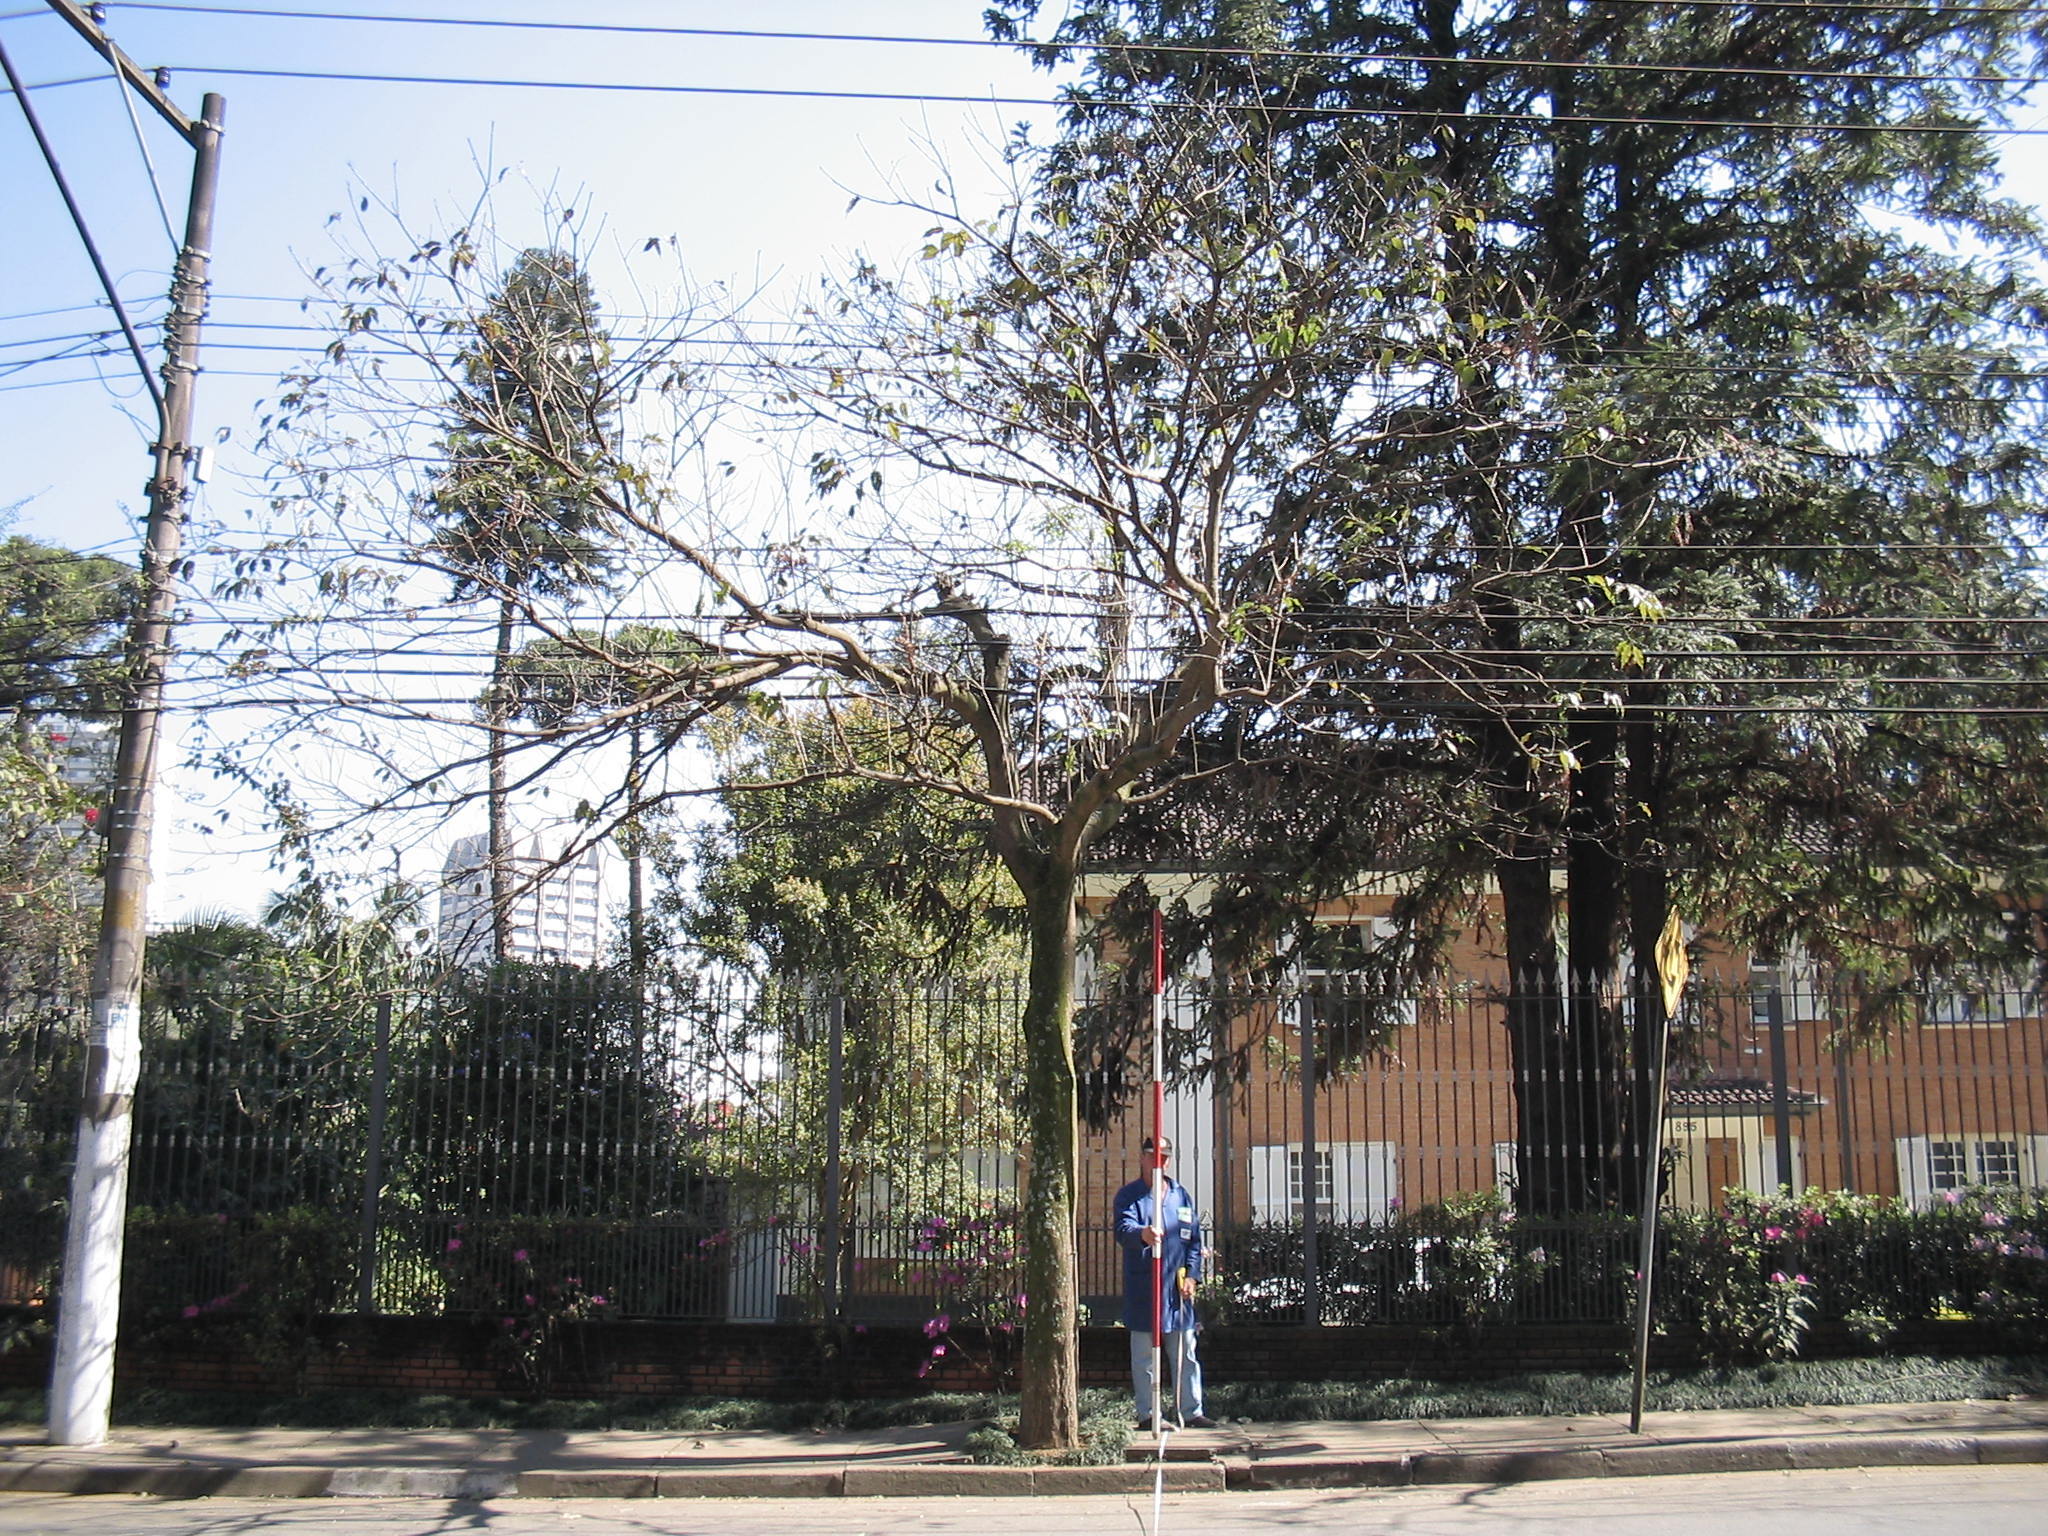crown: (111, 68, 1787, 891)
stem: (968, 887, 1126, 1447)
stick: (1134, 904, 1180, 1439)
tree: (108, 61, 1792, 1452)
